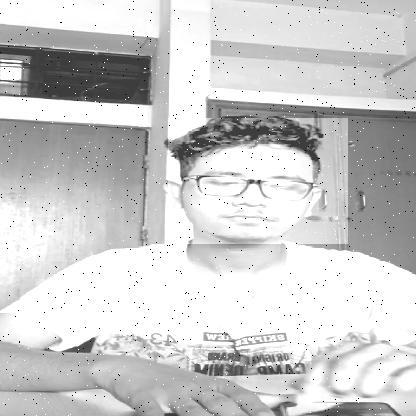Normal: (168, 118, 348, 244)
